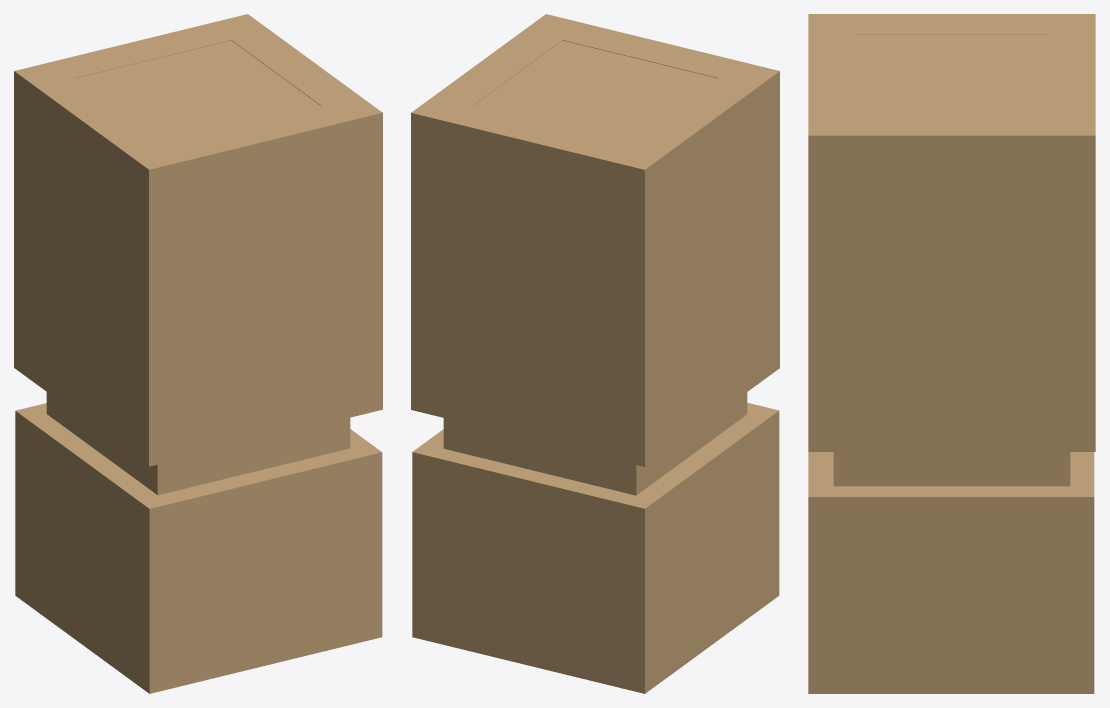
3 renders of one model, left to right at view 1: azimuth 30°, elevation 25°; view 2: azimuth 150°, elevation 25°; view 3: azimuth 270°, elevation 25°, orthographic. The views are drawn at different scales.
Visible parts, largest first — view 1: 四角2_白; view 2: 四角2_白; view 3: 四角2_白.
Boxes of the visible parts, bbox=[...] form: 四角2_白: bbox=[14, 14, 382, 693]; 四角2_白: bbox=[411, 14, 779, 693]; 四角2_白: bbox=[808, 14, 1095, 693].
Bounding box in the file's own units: 0.0243 × 0.0522 × 0.0243.
